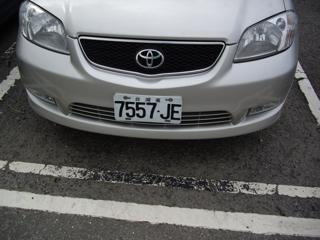plate: (112, 92, 184, 125)
